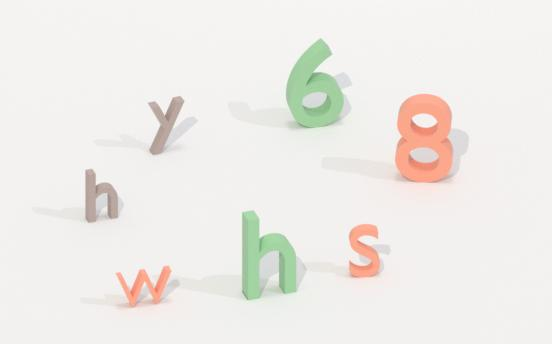6: (282, 37, 348, 131)
8: (391, 94, 457, 187)
Y: (143, 93, 191, 157)
h: (236, 207, 307, 304), (84, 166, 124, 225)
s: (345, 222, 387, 280)
w: (110, 264, 177, 311)
